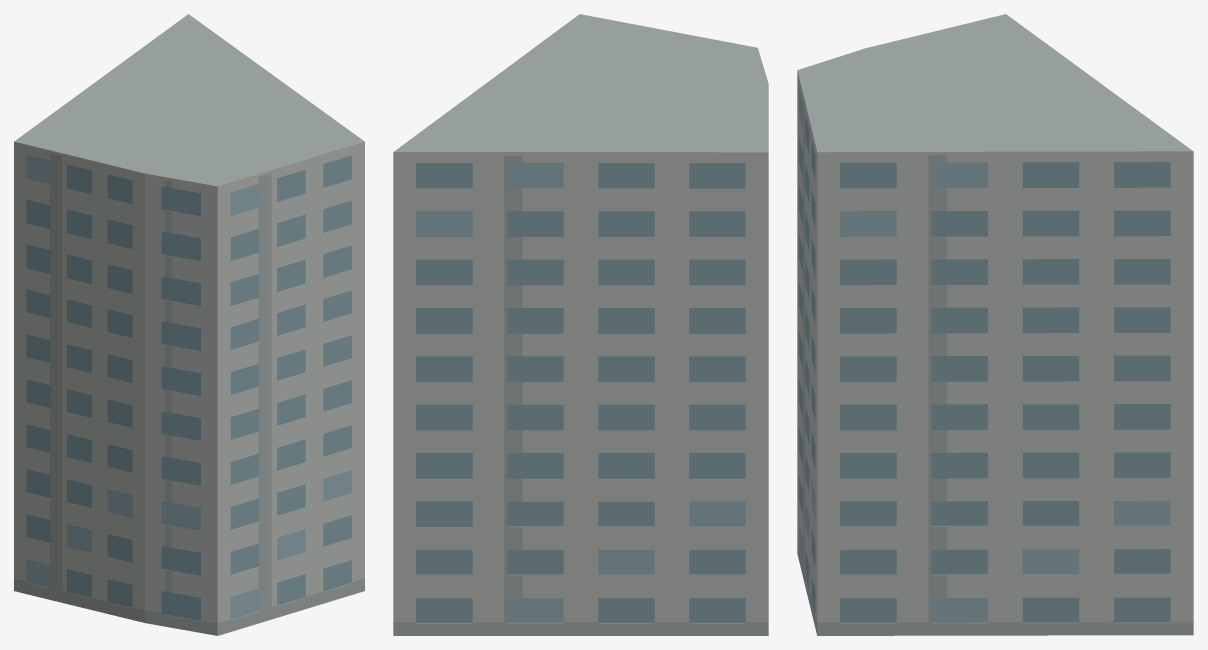
Rendered from survey-upis-32483244.glb.
The picture shows the model from 3 angles, left to right: view 1: azimuth 30°, elevation 25°; view 2: azimuth 150°, elevation 25°; view 3: azimuth 270°, elevation 25°; orthographic projection. The views are drawn at different scales.
Parts seen in each view (by area): view 1: survey-upis-32483244.tmp; view 2: survey-upis-32483244.tmp; view 3: survey-upis-32483244.tmp.
Boxes of the visible parts, x1=… form: survey-upis-32483244.tmp: x1=14, y1=14, x2=364, y2=635; survey-upis-32483244.tmp: x1=393, y1=14, x2=768, y2=635; survey-upis-32483244.tmp: x1=797, y1=14, x2=1193, y2=635.
Bounding box in the file's own units: 20.96 × 34.2 × 25.39.
